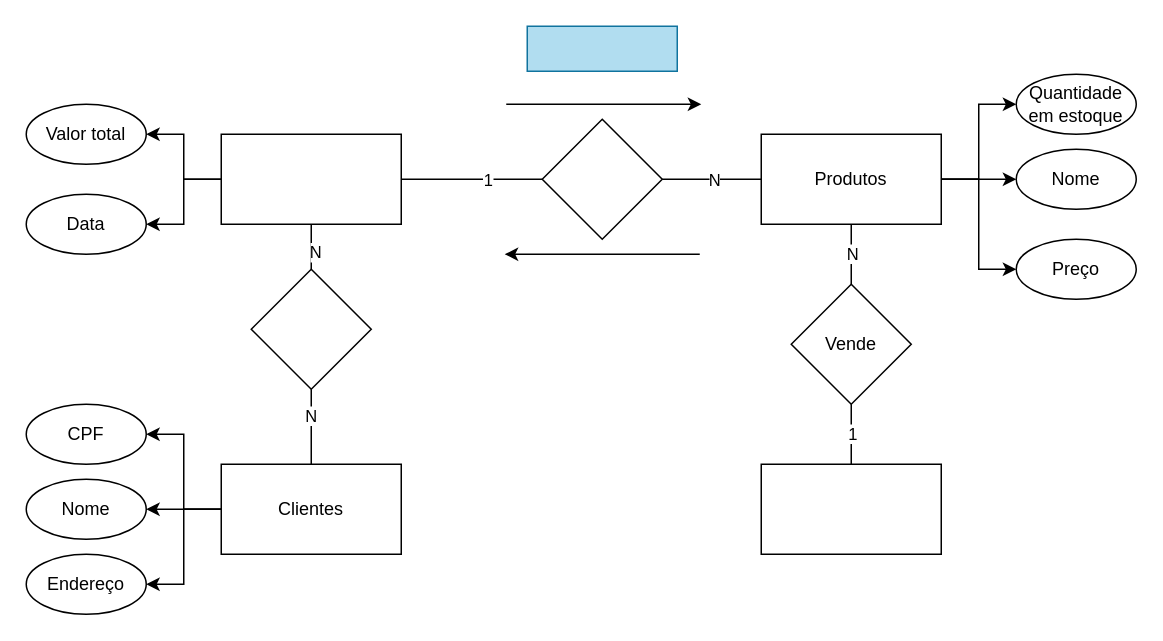
Some shapes in this 1163 by 641 pixel diagram are drawn without their labels. Here are the shapes that lost their labels. From the top down, the box of each, then its label:
(526, 25, 677, 71): Loja Online
(220, 133, 401, 224): Compra
(541, 118, 662, 239): Inclui
(250, 268, 371, 389): Podem
(760, 463, 941, 554): Loja
